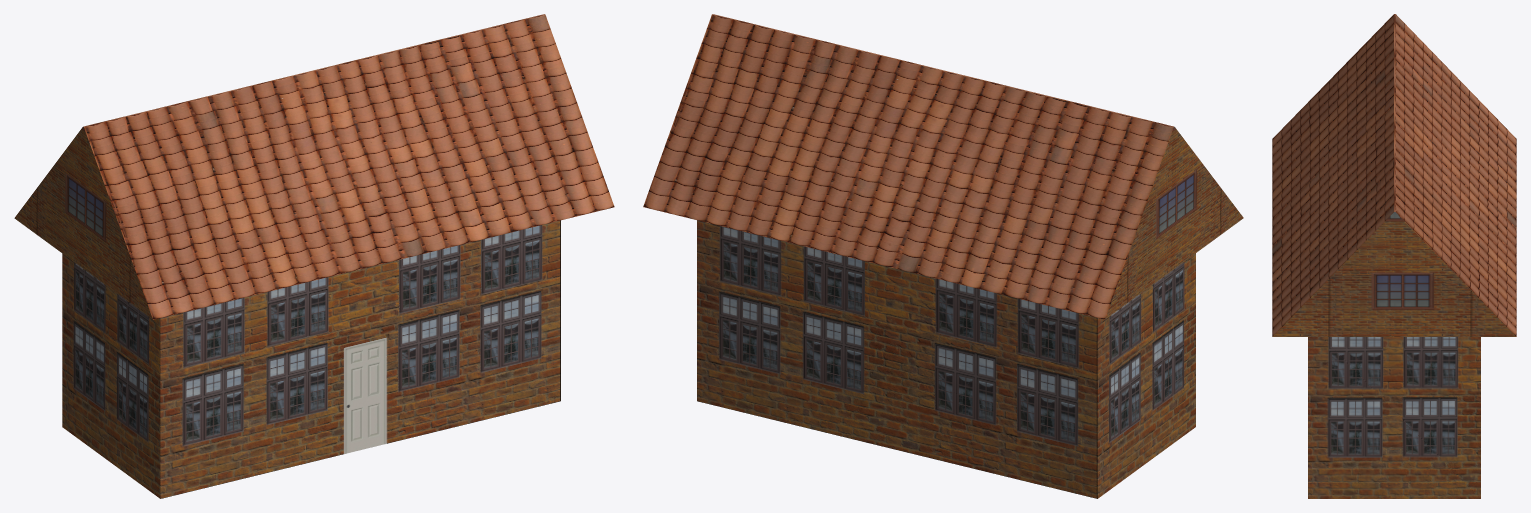
The model's file is house2.fbx.
3 renders of one model, left to right at view 1: azimuth 30°, elevation 25°; view 2: azimuth 150°, elevation 25°; view 3: azimuth 270°, elevation 25°, orthographic. The views are drawn at different scales.
Parts seen in each view (by area): view 1: Cube.001, Cube; view 2: Cube.001, Cube; view 3: Cube.001, Cube.
Part boxes in pixels (left/top/right/bottom): Cube.001: left=14, top=14, right=614, bottom=319; Cube: left=62, top=220, right=560, bottom=498; Cube.001: left=643, top=14, right=1243, bottom=319; Cube: left=697, top=220, right=1195, bottom=498; Cube.001: left=1272, top=14, right=1516, bottom=336; Cube: left=1308, top=337, right=1480, bottom=498.
Size of the model in its own units: 1449 by 1028 by 755.
Materials: 6 (6 with a texture image).
